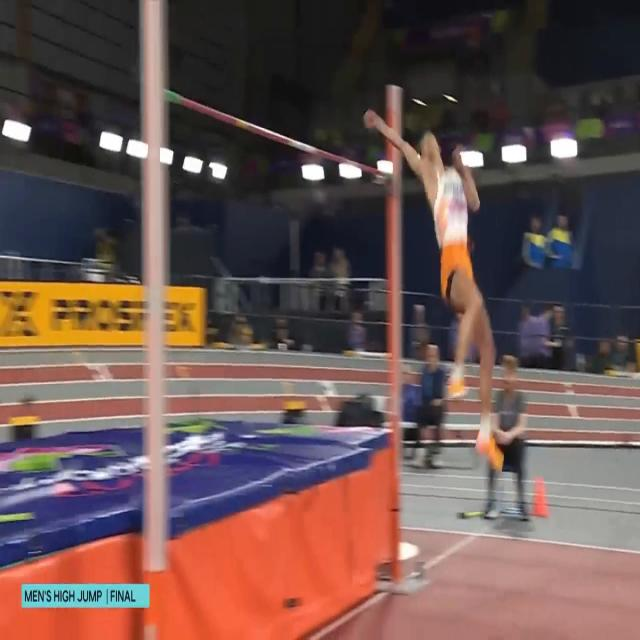jump: (362, 104, 506, 475)
